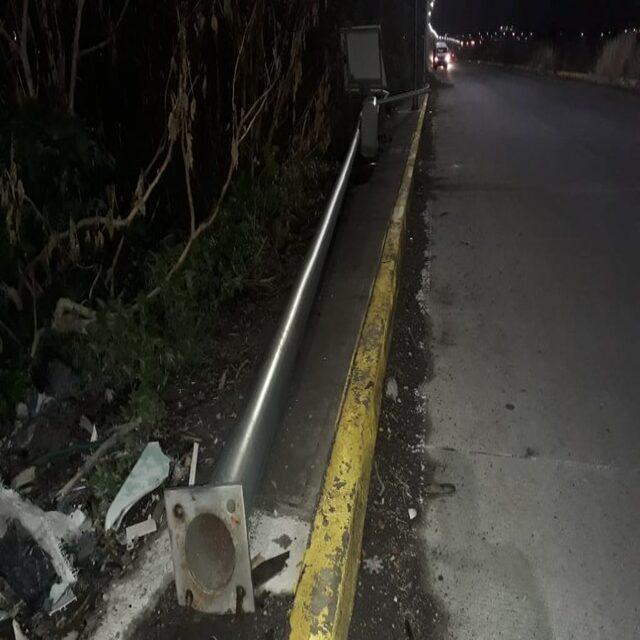Inclined Pole: (165, 81, 433, 615)
